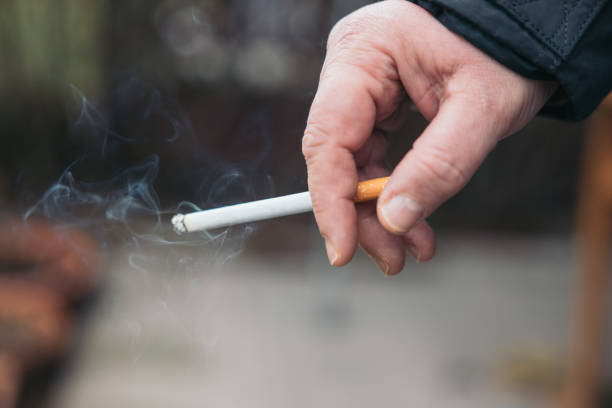cigarette: (170, 175, 393, 237)
